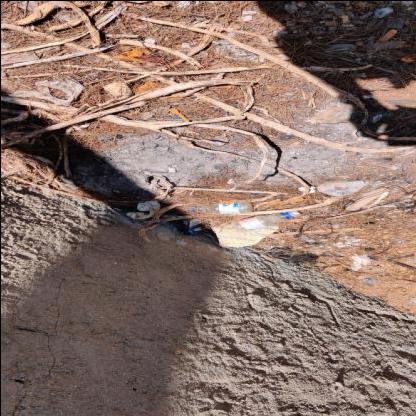Aluminium foil: (226, 178, 235, 182)
Bottle: (288, 210, 302, 216)
Bottle cap: (230, 209, 301, 232), (184, 202, 250, 214)
Carton: (180, 218, 202, 235)
Other litter: (322, 47, 350, 51), (147, 117, 182, 120)
Styrofoam piece: (211, 223, 278, 245)
Unlabeled litter: (7, 78, 85, 106), (124, 200, 158, 219), (297, 185, 315, 193)
